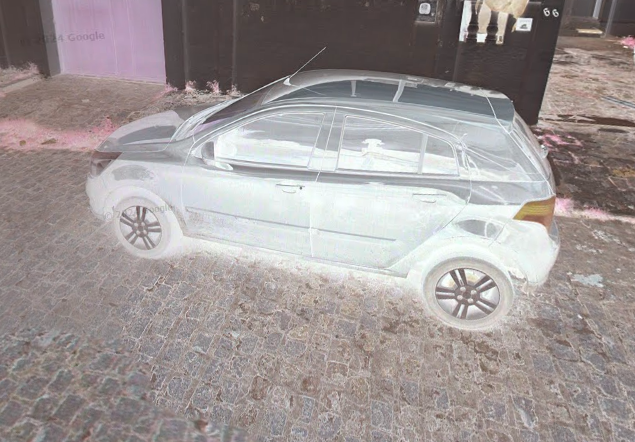car: (83, 47, 563, 331)
